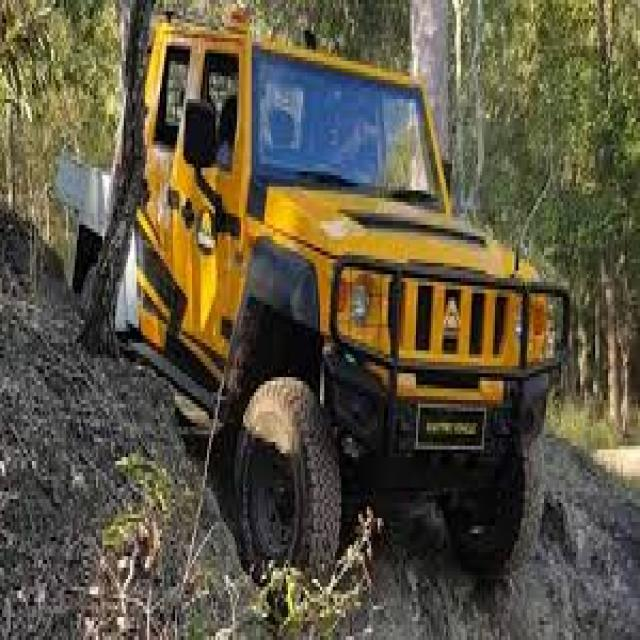light_vehicle: (34, 19, 555, 568)
